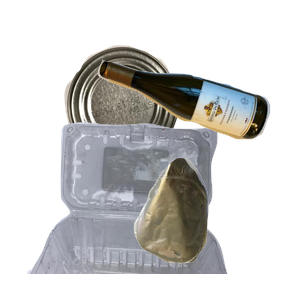glass: (95, 57, 300, 189)
metal: (62, 43, 232, 198)
plastic: (25, 120, 245, 300)
trash: (131, 155, 300, 300)
